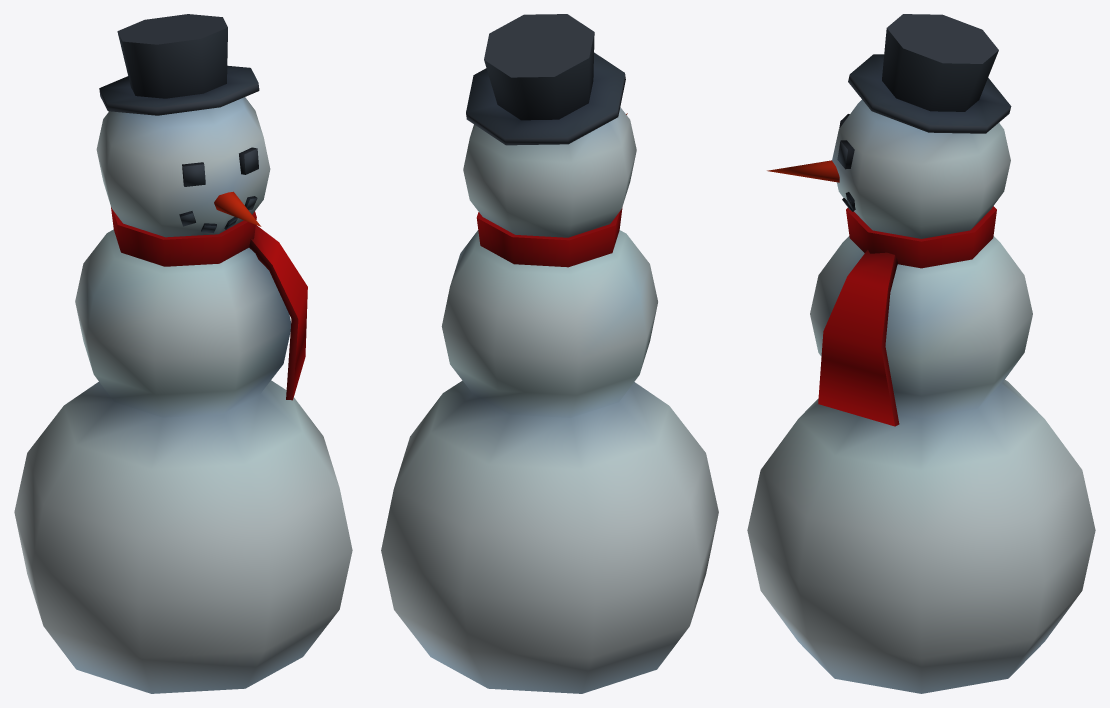
File: Snowman_Scarf.fbx
3 views of the same model, side by side, from view 1: azimuth 30°, elevation 25°; view 2: azimuth 150°, elevation 25°; view 3: azimuth 270°, elevation 25° (orthographic).
Parts seen in each view (by area): view 1: Snowman_Scarf; view 2: Snowman_Scarf; view 3: Snowman_Scarf.
Part boxes in pixels (box(x1,y1,x2,y2)): Snowman_Scarf: box(14, 14, 352, 693); Snowman_Scarf: box(381, 14, 718, 693); Snowman_Scarf: box(747, 14, 1095, 693).
Size of the model in its own units: 87.9 by 175 by 87.9.
